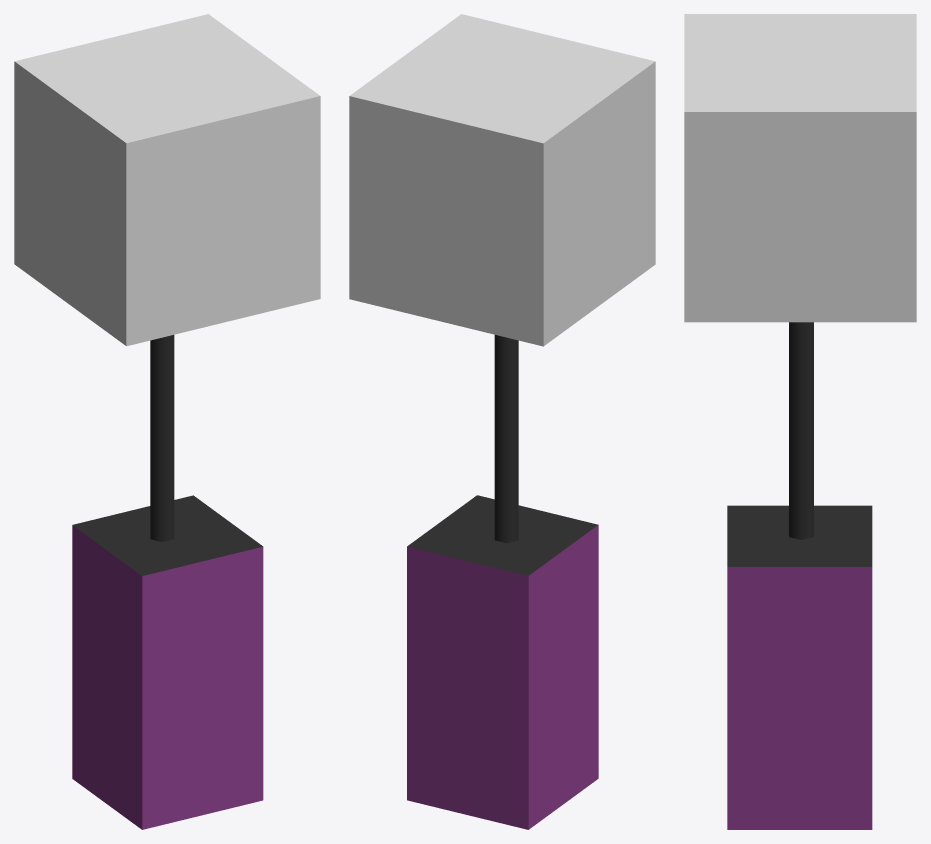
File: arbuste.FBX
3 views of the same model, side by side, from view 1: azimuth 30°, elevation 25°; view 2: azimuth 150°, elevation 25°; view 3: azimuth 270°, elevation 25° (orthographic). The views are drawn at different scales.
Parts seen in each view (by area): view 1: feuillage arbuste unity007, tronc arbuste unity007; view 2: feuillage arbuste unity007, tronc arbuste unity007; view 3: feuillage arbuste unity007, tronc arbuste unity007.
Boxes of the visible parts, x1,y1,x2,y2 form: feuillage arbuste unity007: (14, 14, 320, 346); tronc arbuste unity007: (72, 335, 263, 829); feuillage arbuste unity007: (349, 14, 655, 346); tronc arbuste unity007: (407, 335, 598, 829); feuillage arbuste unity007: (684, 14, 916, 322); tronc arbuste unity007: (727, 322, 872, 829).
Bounding box in the file's own units: 47.89 × 168 × 47.89.
